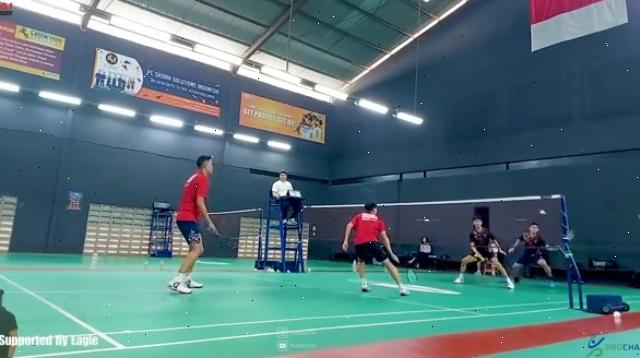Shuttlecock: (539, 208, 547, 216)
